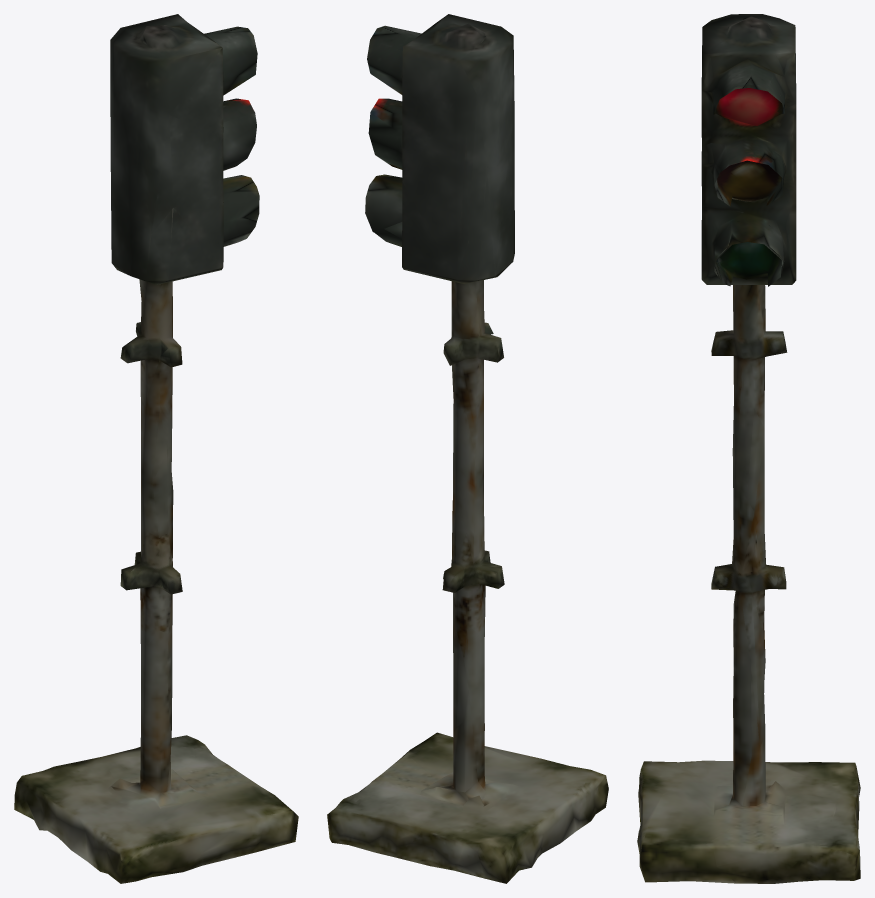
Rendered from lampu_merah.glb.
The picture shows the model from 3 angles, left to right: view 1: azimuth 30°, elevation 25°; view 2: azimuth 150°, elevation 25°; view 3: azimuth 270°, elevation 25°; orthographic projection. The views are drawn at different scales.
Parts seen in each view (by area): view 1: tripo_node_77a6d959; view 2: tripo_node_77a6d959; view 3: tripo_node_77a6d959.
Boxes of the visible parts, bbox=[...] form: tripo_node_77a6d959: bbox=[14, 14, 298, 883]; tripo_node_77a6d959: bbox=[327, 14, 608, 883]; tripo_node_77a6d959: bbox=[637, 14, 860, 883].
Size of the model in its own units: 24.18 by 99.87 by 24.72.
Materials: 1 (1 with a texture image).
